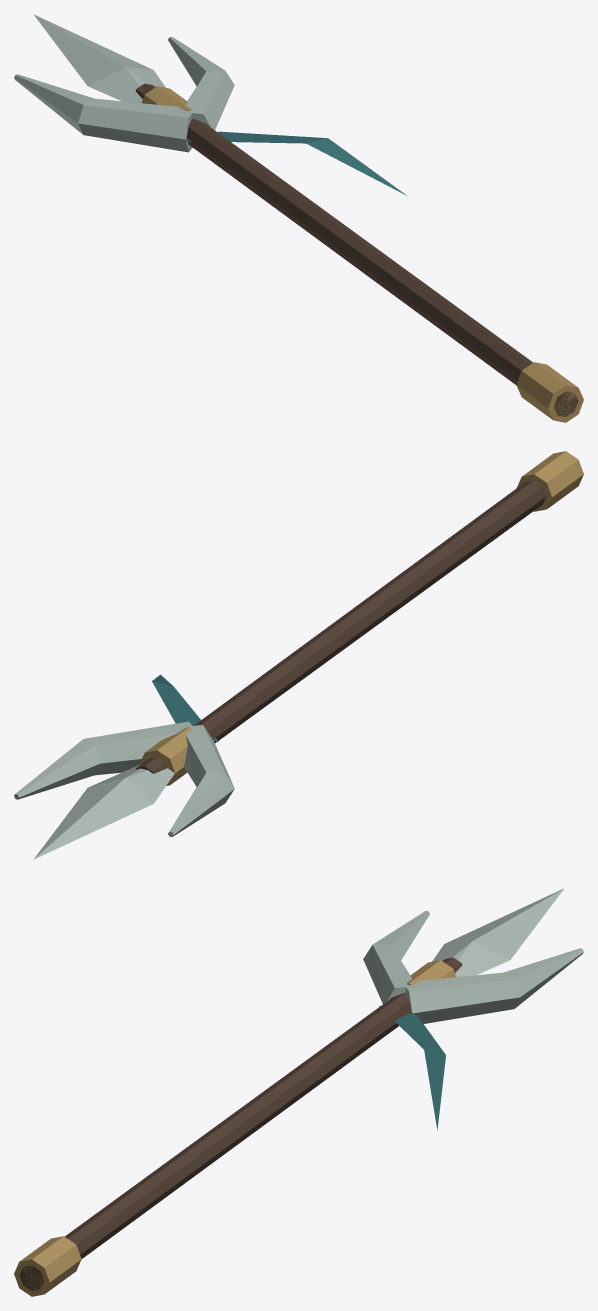
Rendered from trident.glb.
3 renders of one model, top to bottom at view 1: azimuth 30°, elevation 25°; view 2: azimuth 150°, elevation 25°; view 3: azimuth 330°, elevation 25°, orthographic.
Parts seen in each view (by area): view 1: BladeMesh; view 2: BladeMesh; view 3: BladeMesh.
Boxes of the visible parts, x1,y1,x2,y2 form: BladeMesh: [14, 14, 583, 422]; BladeMesh: [14, 451, 583, 859]; BladeMesh: [14, 888, 583, 1296].
Size of the model in its own units: 0.7399 by 0.165 by 3.35.
